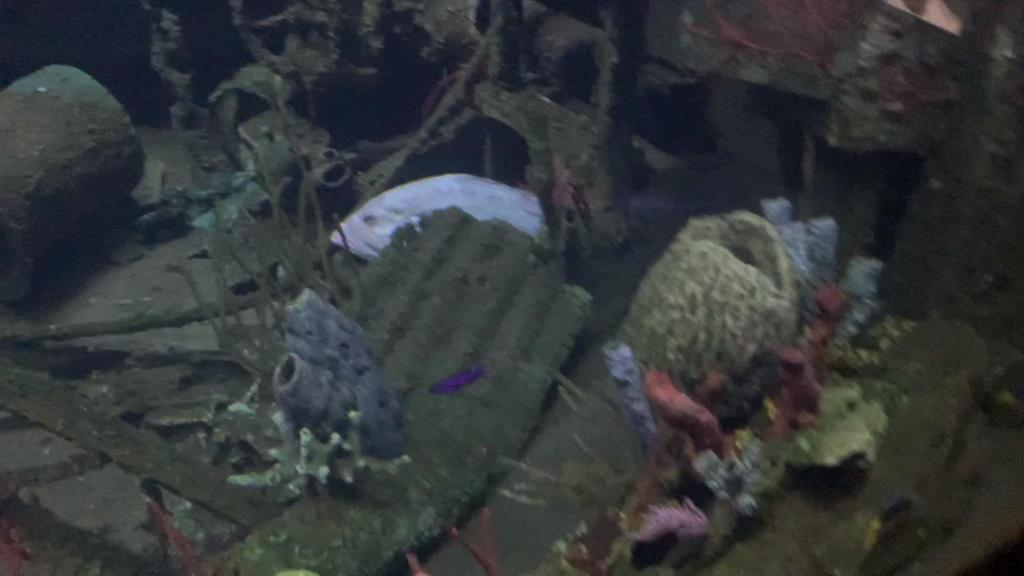fish: (320, 168, 552, 264), (654, 365, 718, 398)
